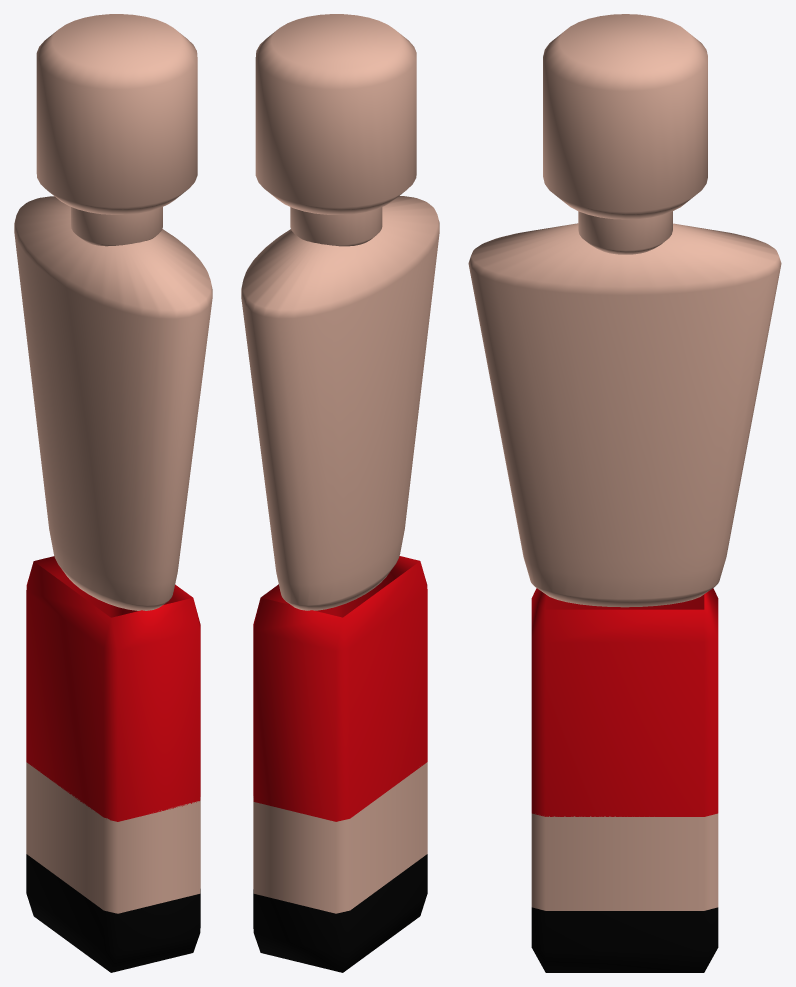
The model's file is roman.fbx.
The picture shows the model from 3 angles, left to right: view 1: azimuth 30°, elevation 25°; view 2: azimuth 150°, elevation 25°; view 3: azimuth 270°, elevation 25°; orthographic projection. The views are drawn at different scales.
Visible parts, largest first — view 1: Cube.003; view 2: Cube.003; view 3: Cube.003.
Part boxes in pixels (<box>): Cube.003: <box>14,14,212,972</box>; Cube.003: <box>241,14,439,972</box>; Cube.003: <box>468,14,781,972</box>.
Size of the model in its own units: 36.84 by 225 by 69.9.
